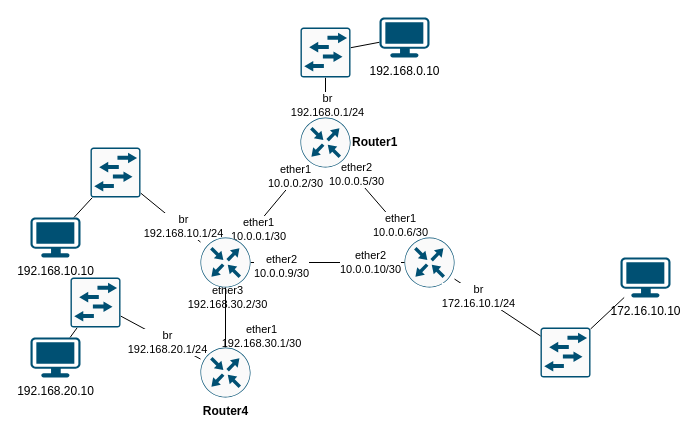
The diagram is 698 pixels wide and 435 high, and some of its shapes have lost their labels. Here are the shapes that lost their labels. From the top down, the centre of each, then its label:
At (x=225, y=262): "Router3".
At (x=429, y=262): "Router2".
